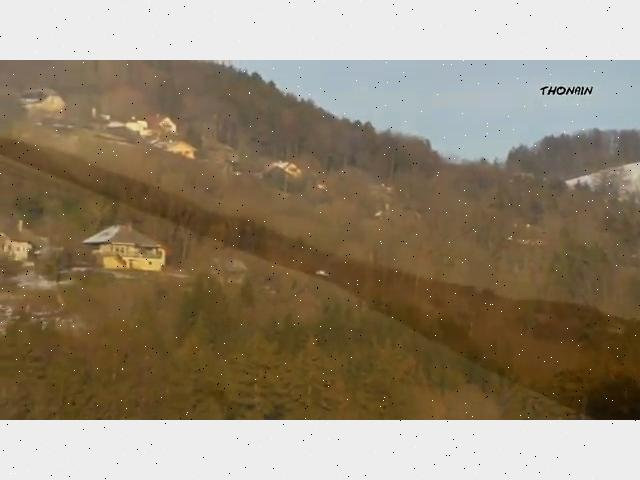Anti-Drone: (308, 265, 334, 286)
